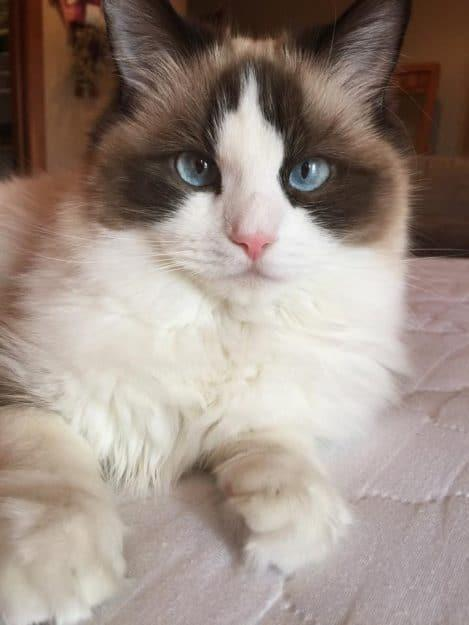ragdoll: (92, 1, 419, 325)
